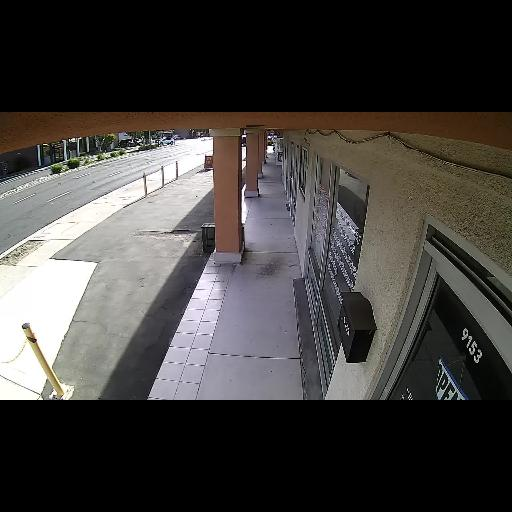car: (155, 136, 174, 147)
